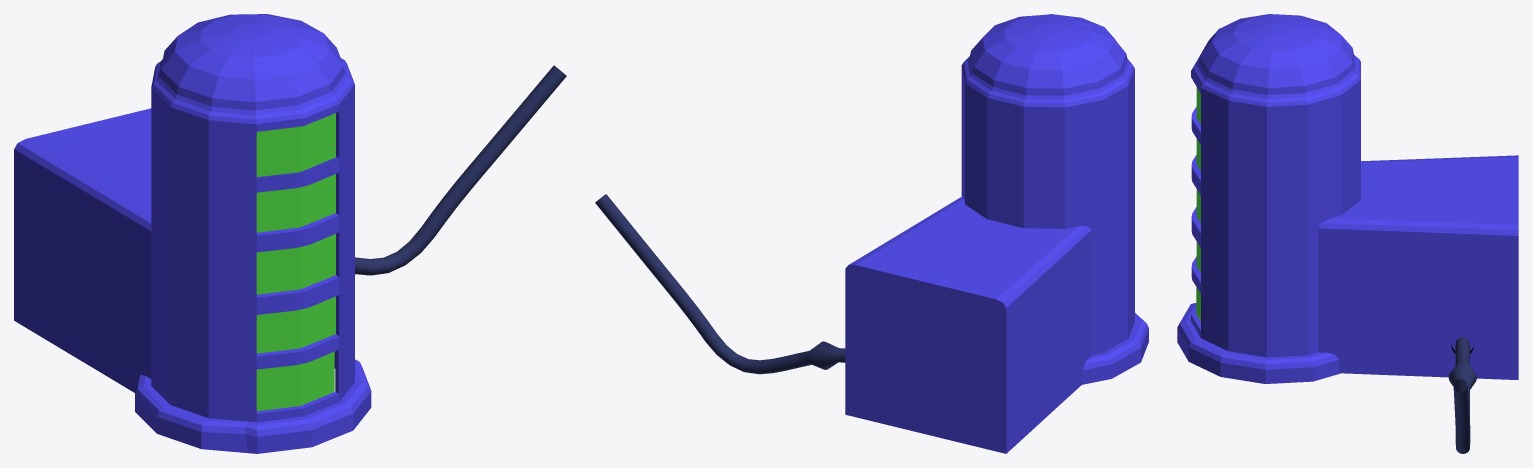
File: Models_0.4.fbx
The picture shows the model from 3 angles, left to right: view 1: azimuth 30°, elevation 25°; view 2: azimuth 150°, elevation 25°; view 3: azimuth 270°, elevation 25°; orthographic projection. The views are drawn at different scales.
Visible parts, largest first — view 1: Circle, Circle.001; view 2: Circle, Circle.001; view 3: Circle, Circle.001.
Boxes of the visible parts, <box> form: Circle: <box>14,14,371,453</box>; Circle.001: <box>355,65,566,275</box>; Circle: <box>845,14,1148,453</box>; Circle.001: <box>595,194,845,374</box>; Circle: <box>1177,14,1518,383</box>; Circle.001: <box>1448,337,1476,453</box>.
Bounding box in the file's own units: 235 × 164 × 158.
